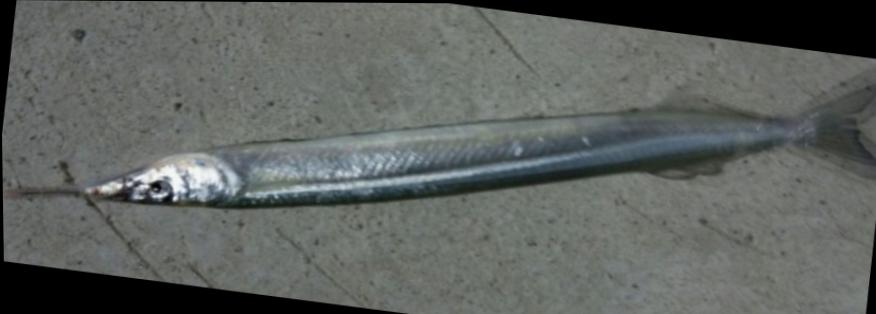fish: (5, 82, 876, 209)
